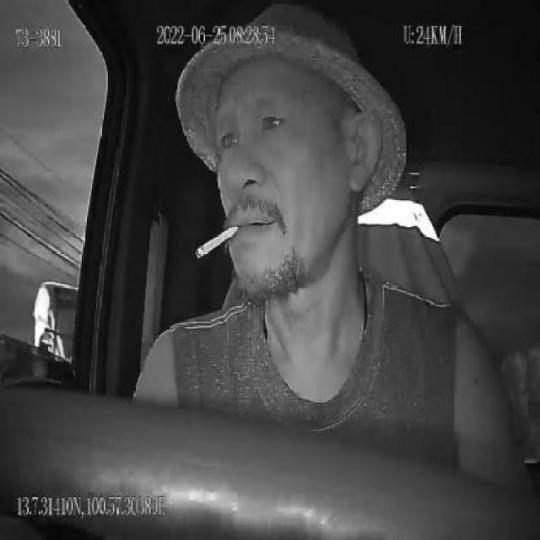smoking: (197, 223, 238, 262)
